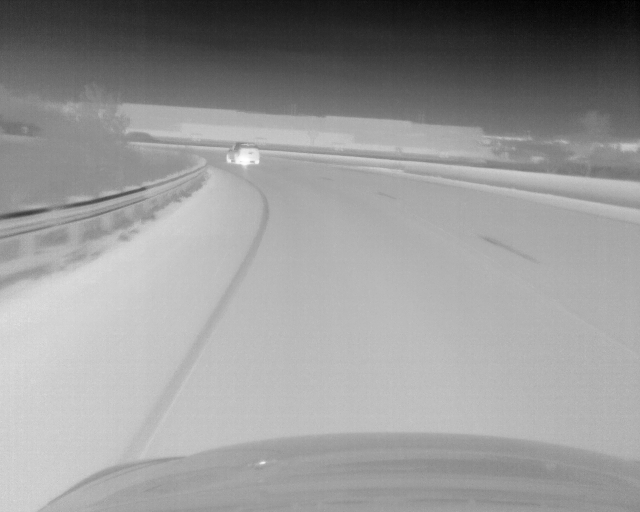car: (226, 140, 260, 165)
